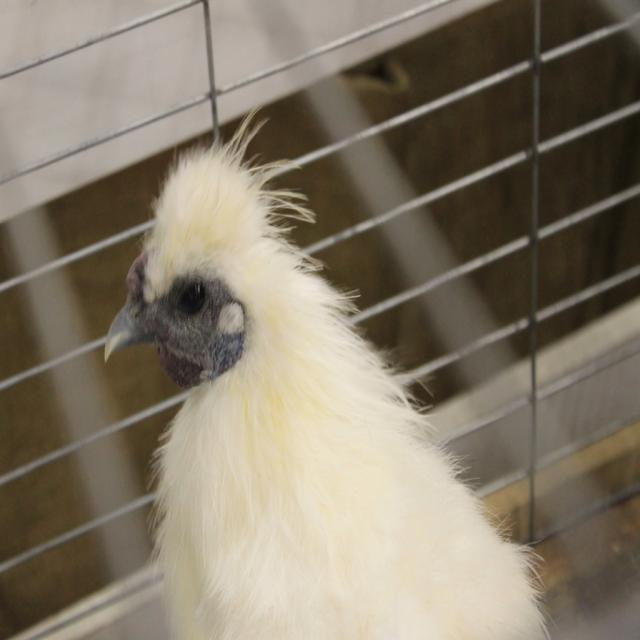Chicken: (108, 116, 562, 640)
